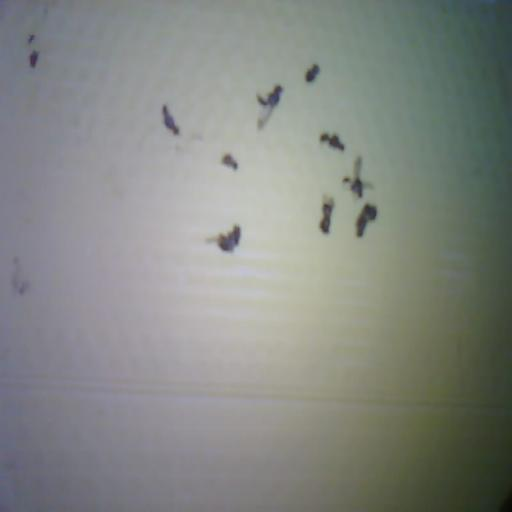Insects: (342, 156, 372, 198), (257, 84, 282, 129), (205, 224, 241, 253), (356, 203, 376, 236), (319, 195, 334, 234), (162, 105, 179, 135), (319, 132, 344, 150)
dust: (11, 257, 30, 294), (305, 64, 319, 81), (222, 154, 237, 169), (30, 50, 38, 67), (28, 34, 35, 44)
